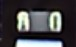COMP: (13, 8, 65, 36)
GAP: (16, 21, 62, 47)
